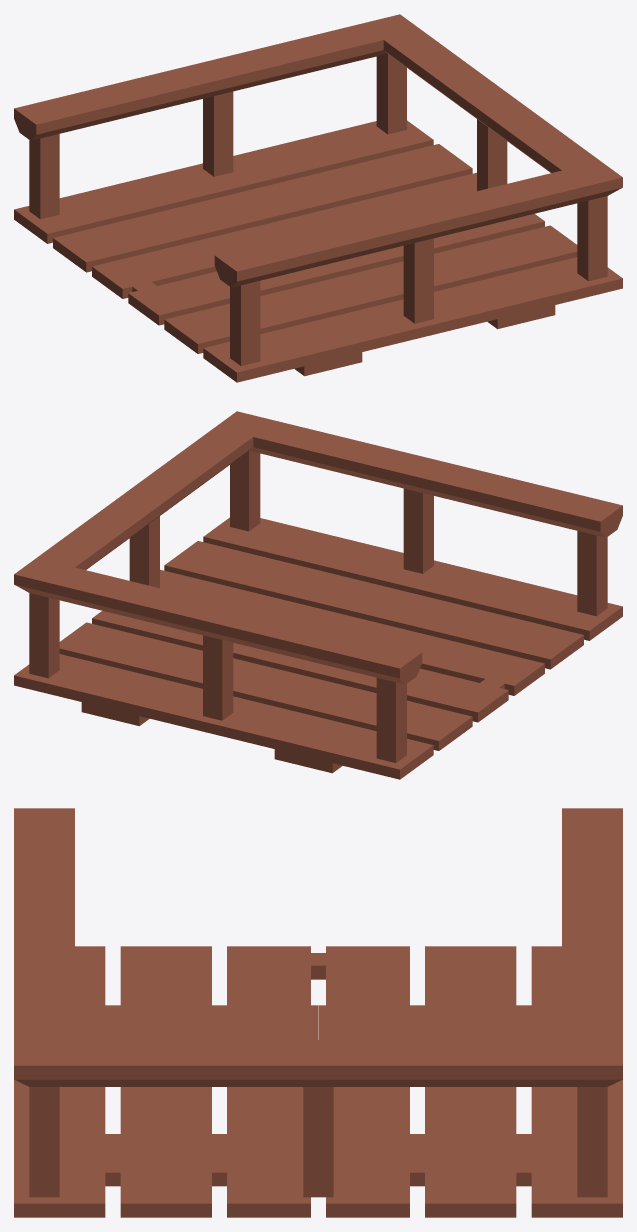
The model's file is scaffold_low_cornerBoth 1.fbx.
The picture shows the model from 3 angles, top to bottom: view 1: azimuth 30°, elevation 25°; view 2: azimuth 150°, elevation 25°; view 3: azimuth 270°, elevation 25°; orthographic projection. The views are drawn at different scales.
Parts seen in each view (by area): view 1: scaffold_low_cornerBoth; view 2: scaffold_low_cornerBoth; view 3: scaffold_low_cornerBoth.
Boxes of the visible parts, left/top/right/bottom form: scaffold_low_cornerBoth: left=14, top=14, right=622, bottom=382; scaffold_low_cornerBoth: left=14, top=411, right=622, bottom=779; scaffold_low_cornerBoth: left=14, top=808, right=622, bottom=1217.
Bounding box in the file's own units: 400 × 120 × 400.
